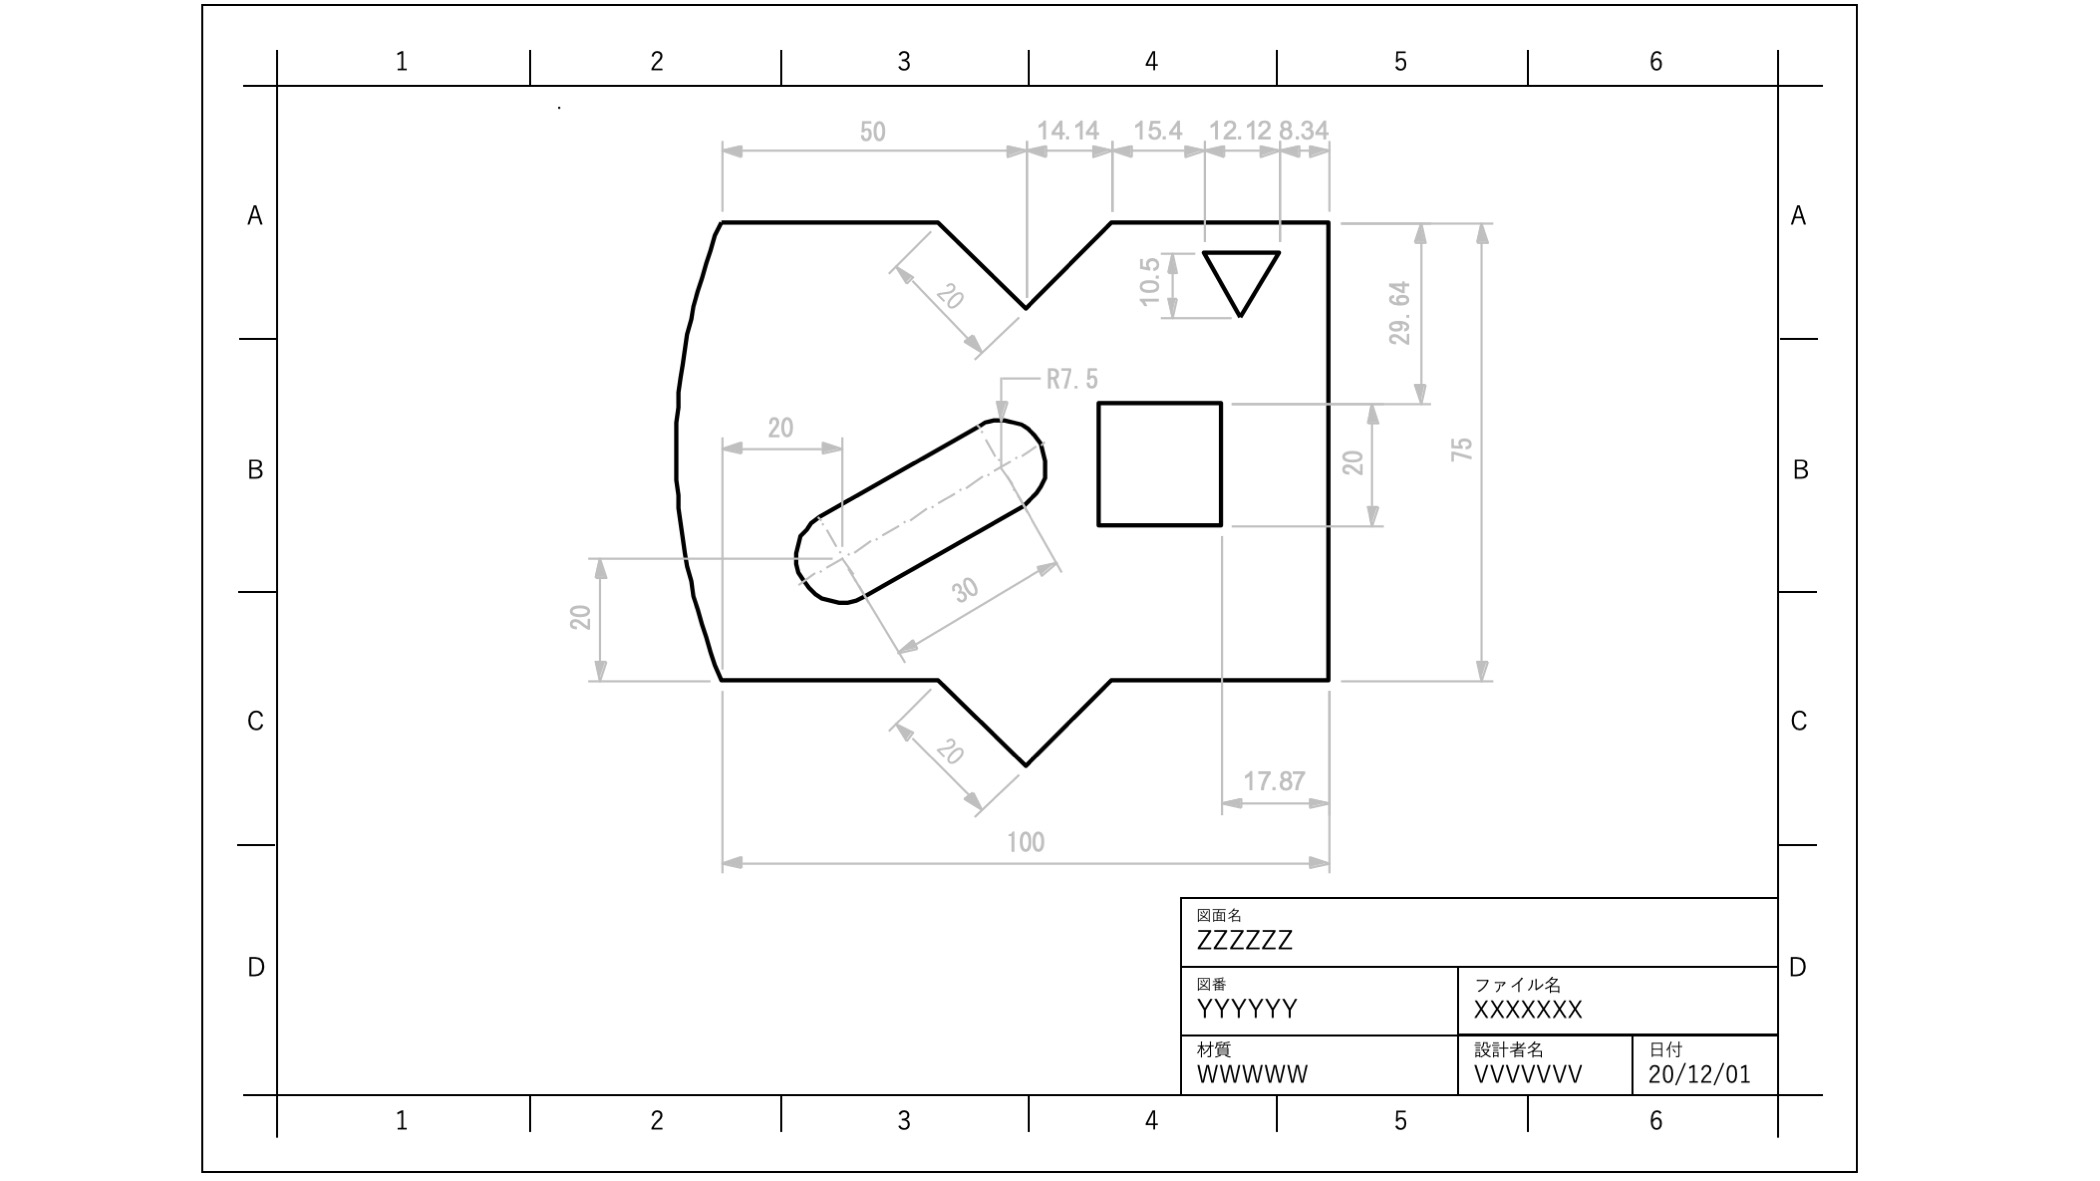rectangle: (1083, 385, 1235, 531)
round_rectangle: (782, 402, 1053, 620)
triangle: (1199, 244, 1284, 322)
